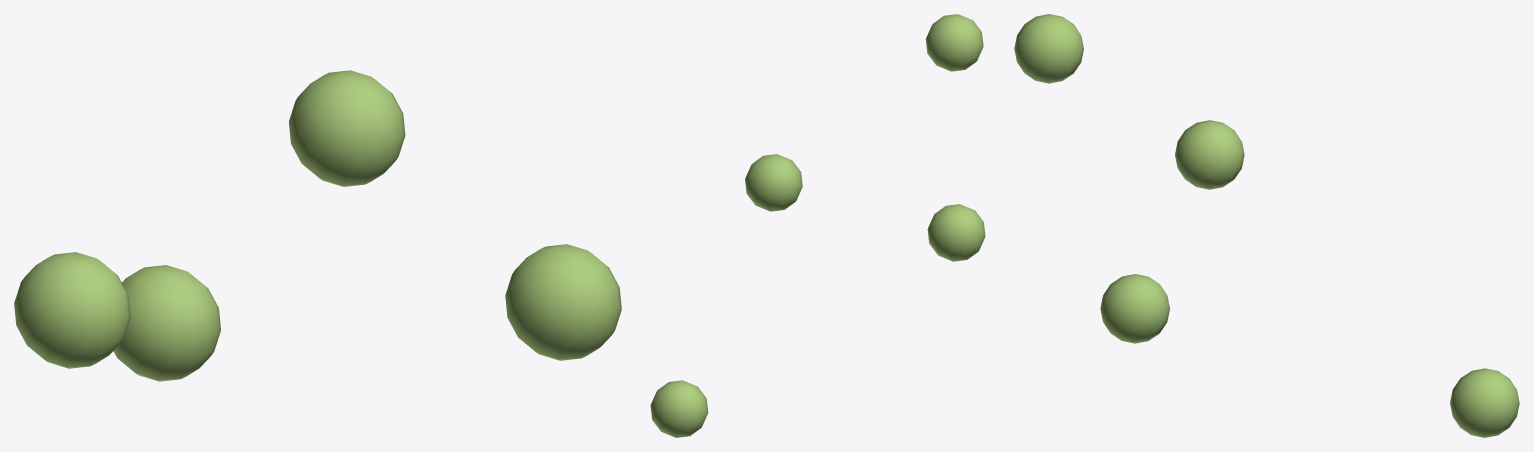
The model's file is inferior-gluteal-nodes-l.glb.
3 renders of one model, left to right at view 1: azimuth 30°, elevation 25°; view 2: azimuth 150°, elevation 25°; view 3: azimuth 270°, elevation 25°, orthographic. The views are drawn at different scales.
Visible parts, largest first — view 1: Inferior gluteal nodes.l; view 2: Inferior gluteal nodes.l; view 3: Inferior gluteal nodes.l.
Part boxes in pixels (bbox=[...]): Inferior gluteal nodes.l: bbox=[14, 70, 621, 381]; Inferior gluteal nodes.l: bbox=[650, 14, 985, 437]; Inferior gluteal nodes.l: bbox=[1014, 14, 1519, 437].
Bounding box in the file's own units: 0.0135 × 0.015 × 0.0188.
